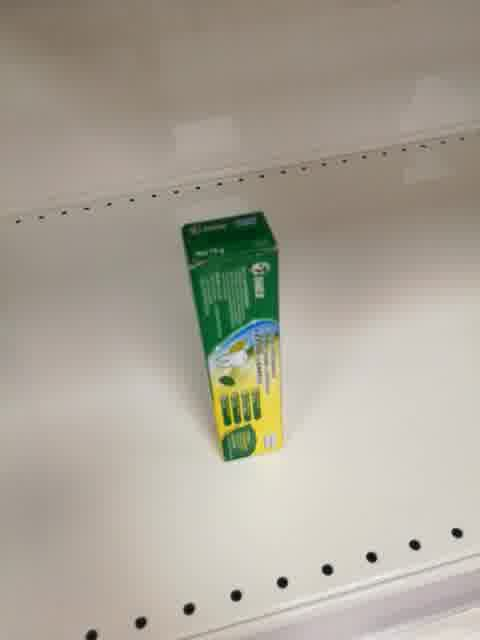toothpaste: (181, 210, 282, 462)
